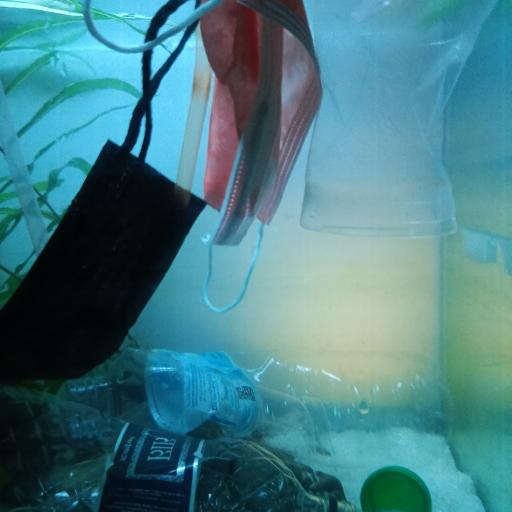bottle_cap: (360, 465, 434, 512)
mask: (0, 1, 200, 395), (187, 0, 320, 309)
plastic_bottle: (71, 346, 457, 466), (1, 383, 359, 512)
plastic_cup: (302, 0, 501, 245)
plastic_straw: (0, 88, 48, 256), (176, 16, 211, 218)
